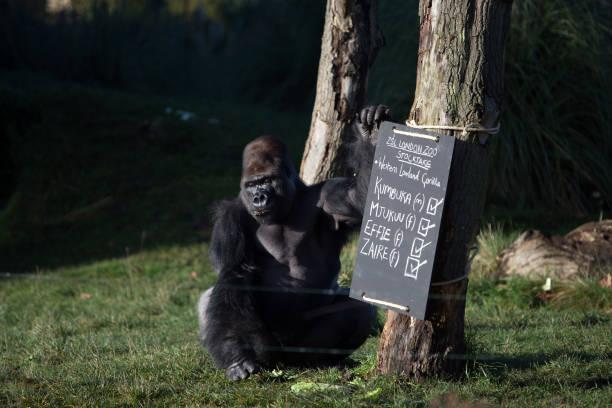gorille_Autres: (184, 120, 352, 371)
